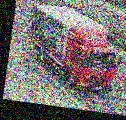truck: (23, 0, 126, 93)
